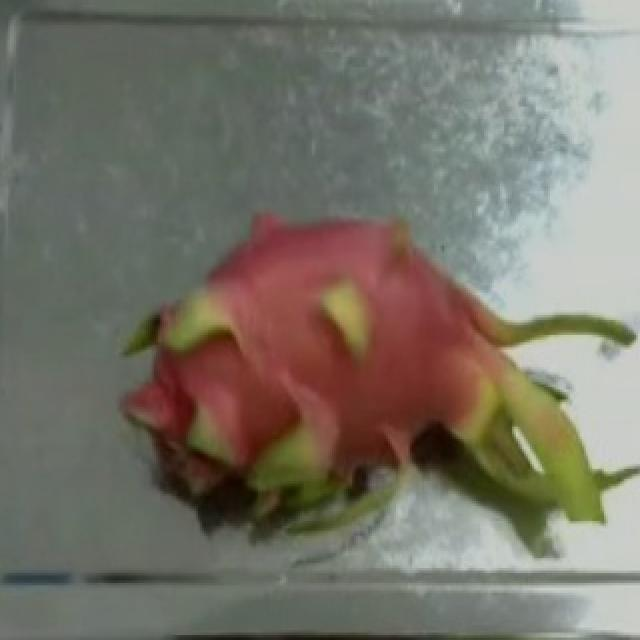fruit: (226, 174, 640, 593)
